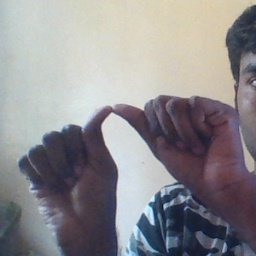A: (14, 96, 248, 210)
